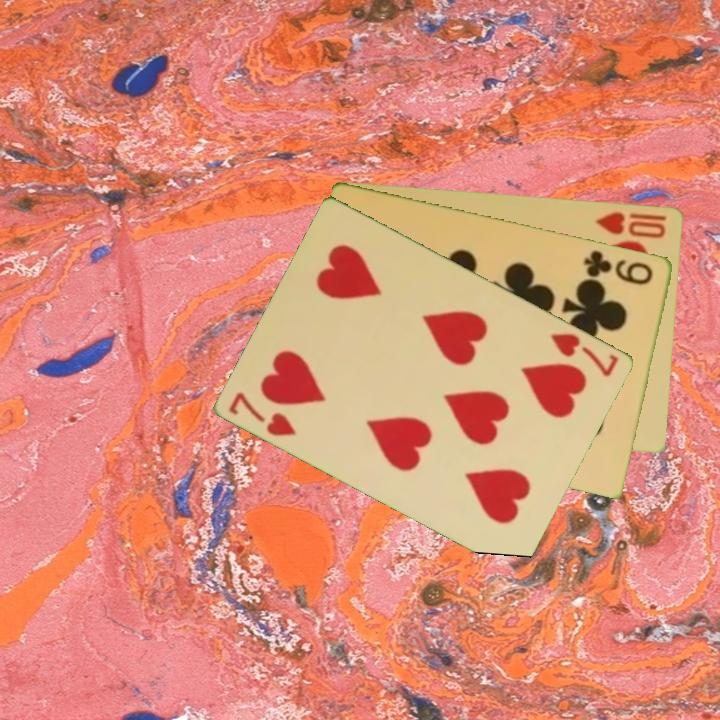10h: (593, 207, 669, 241)
7h: (547, 329, 622, 380), (225, 388, 300, 439)
9c: (580, 246, 656, 288)
